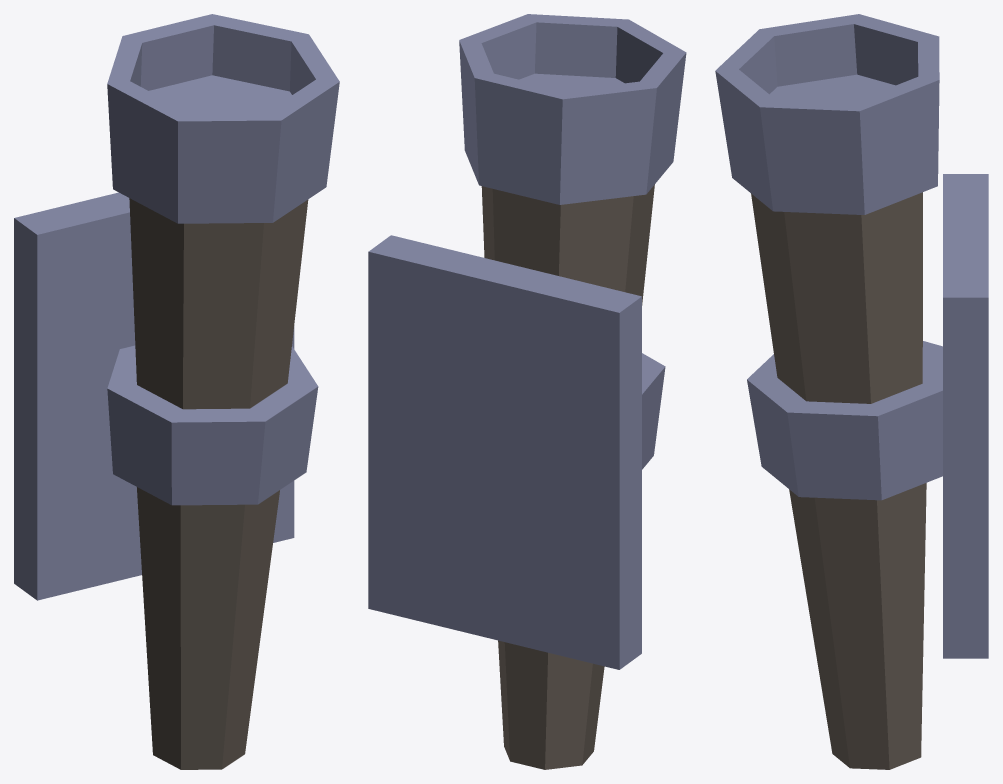
Rendered from LightScone.fbx.
The picture shows the model from 3 angles, left to right: view 1: azimuth 30°, elevation 25°; view 2: azimuth 150°, elevation 25°; view 3: azimuth 270°, elevation 25°; orthographic projection. The views are drawn at different scales.
Parts seen in each view (by area): view 1: LightScone; view 2: LightScone; view 3: LightScone.
Part boxes in pixels (left/top/right/bottom): LightScone: left=14, top=14, right=339, bottom=769; LightScone: left=368, top=14, right=686, bottom=769; LightScone: left=715, top=14, right=988, bottom=769.
Bounding box in the file's own units: 348 × 913 × 325.
